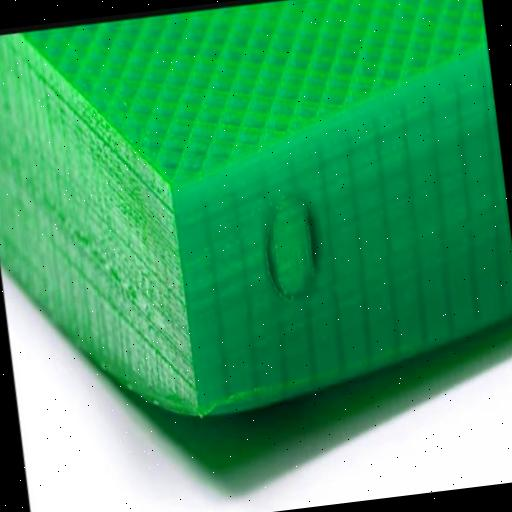cracks: (232, 166, 348, 316)
